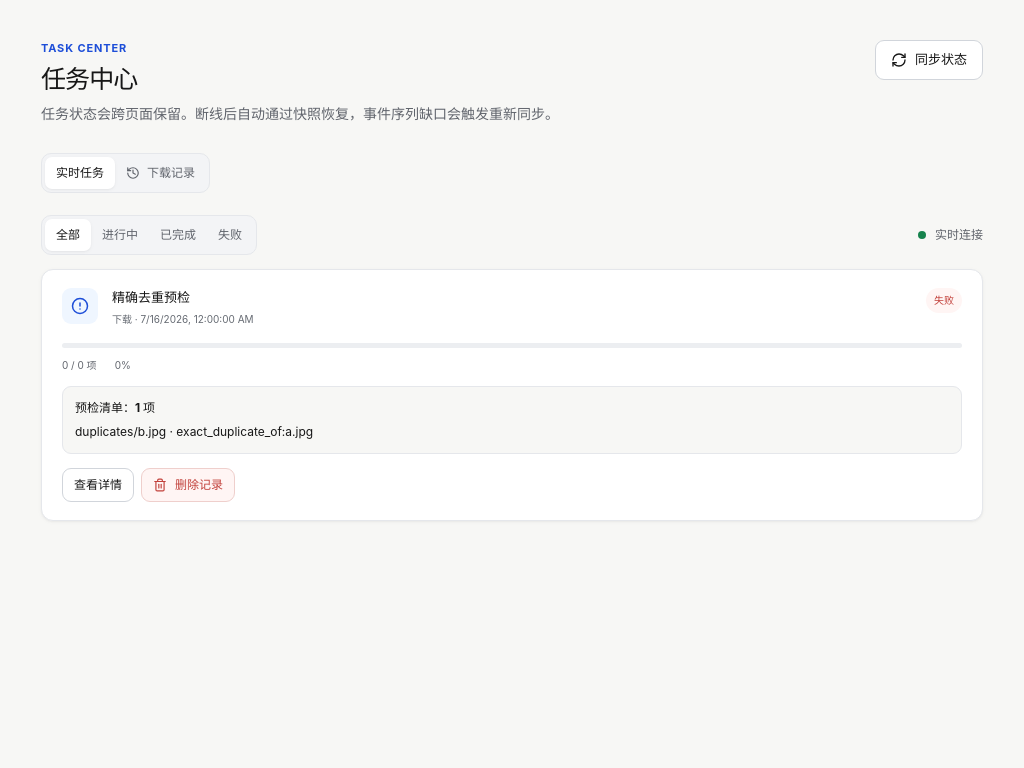
Test case: TasksView destructive preflight › shows bounded item details with failure diagnostics for a download task
Click the button "查看详情" at [98, 485], box [62,468,134,502]
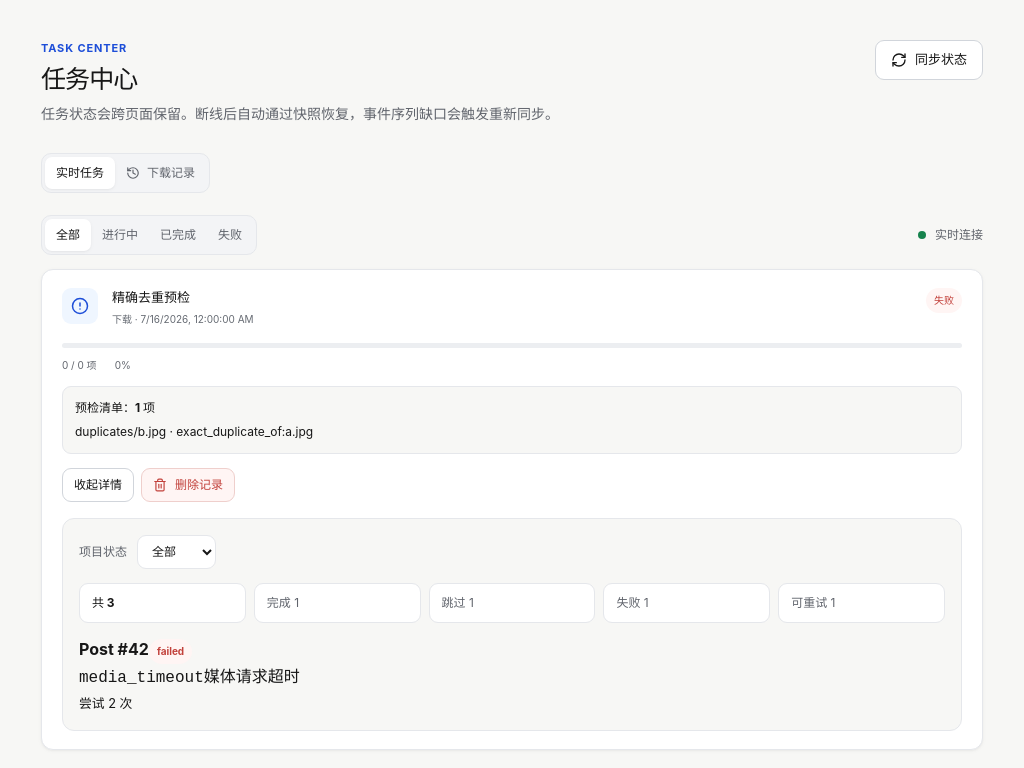
Now the text "媒体请求超时" is shown, box [204,666,300,686]
Now the text "media_timeout" is shown, box [79,669,204,687]
Now the text "尝试 2 次" is shown, box [79,696,132,711]
